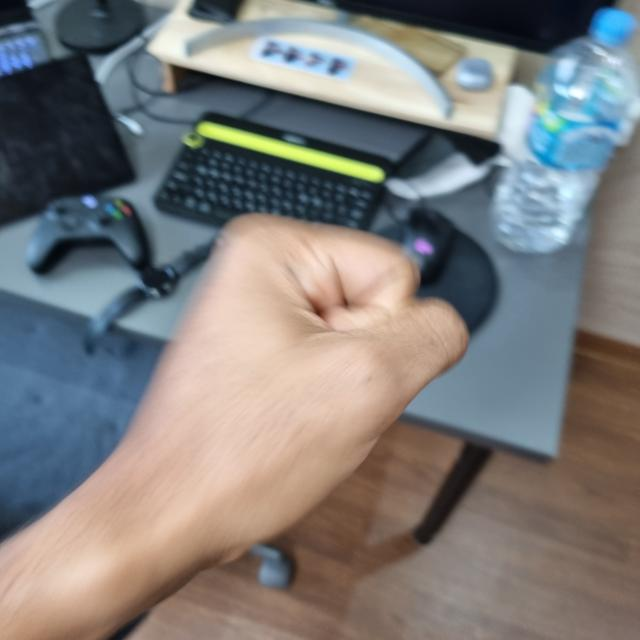Rock: (115, 219, 464, 638)
